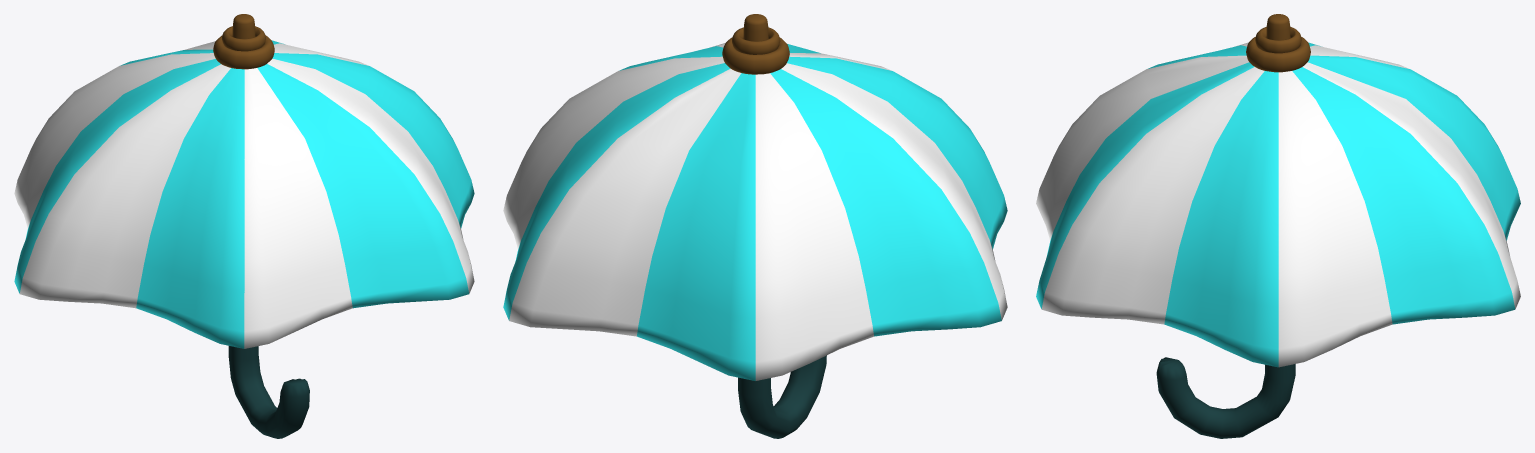
The model's file is yusan.fbx.
The picture shows the model from 3 angles, left to right: view 1: azimuth 30°, elevation 25°; view 2: azimuth 150°, elevation 25°; view 3: azimuth 270°, elevation 25°; orthographic projection. The views are drawn at different scales.
Parts seen in each view (by area): view 1: pSphere2, pCylinder2; view 2: pSphere2, pCylinder2; view 3: pSphere2, pCylinder2.
Boxes of the visible parts, x1,y1,x2,y2 form: pSphere2: (14, 40, 474, 348); pCylinder2: (213, 14, 309, 438); pSphere2: (503, 43, 1007, 380); pCylinder2: (722, 14, 826, 438); pSphere2: (1036, 42, 1520, 367); pCylinder2: (1156, 14, 1310, 438).
Bounding box in the file's own units: 1.85 × 1.64 × 1.57.
